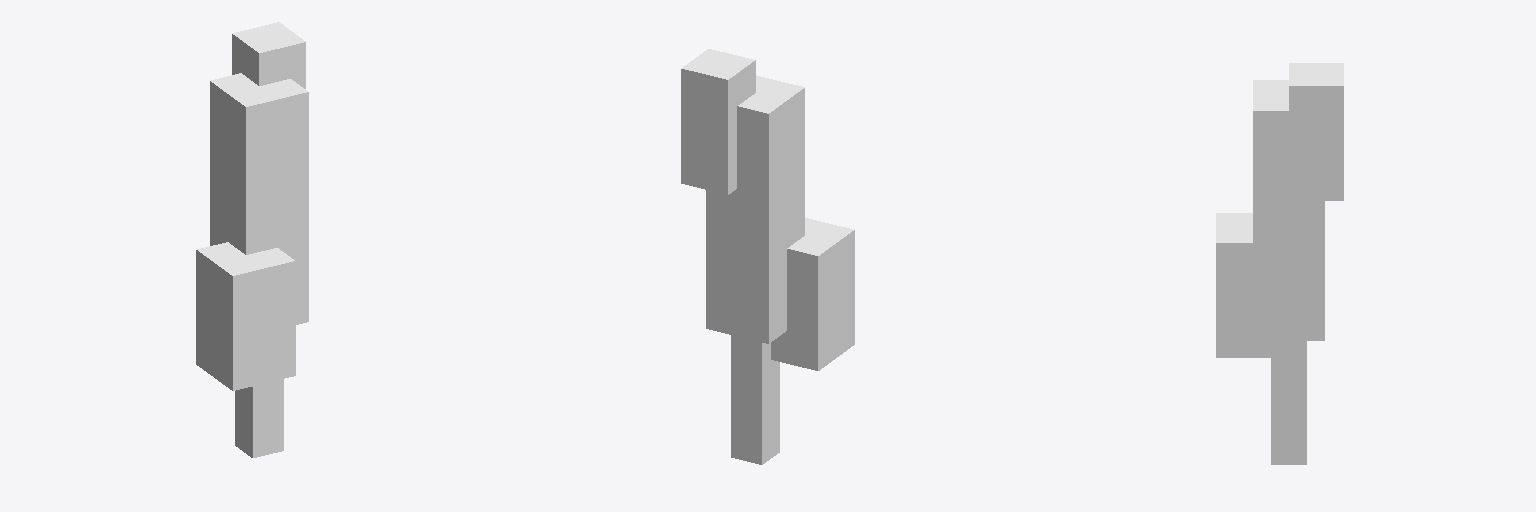
File: tree04.obj
3 views of the same model, side by side, from view 1: azimuth 30°, elevation 25°; view 2: azimuth 150°, elevation 25°; view 3: azimuth 270°, elevation 25° (orthographic).
Visible parts, largest first — view 1: tree04; view 2: tree04; view 3: tree04.
Boxes of the visible parts, box(x1,y1,x2,y2) form: tree04: box(196, 22, 308, 457); tree04: box(681, 49, 854, 464); tree04: box(1216, 63, 1343, 464).
Size of the model in its own units: 7 by 24 by 7.